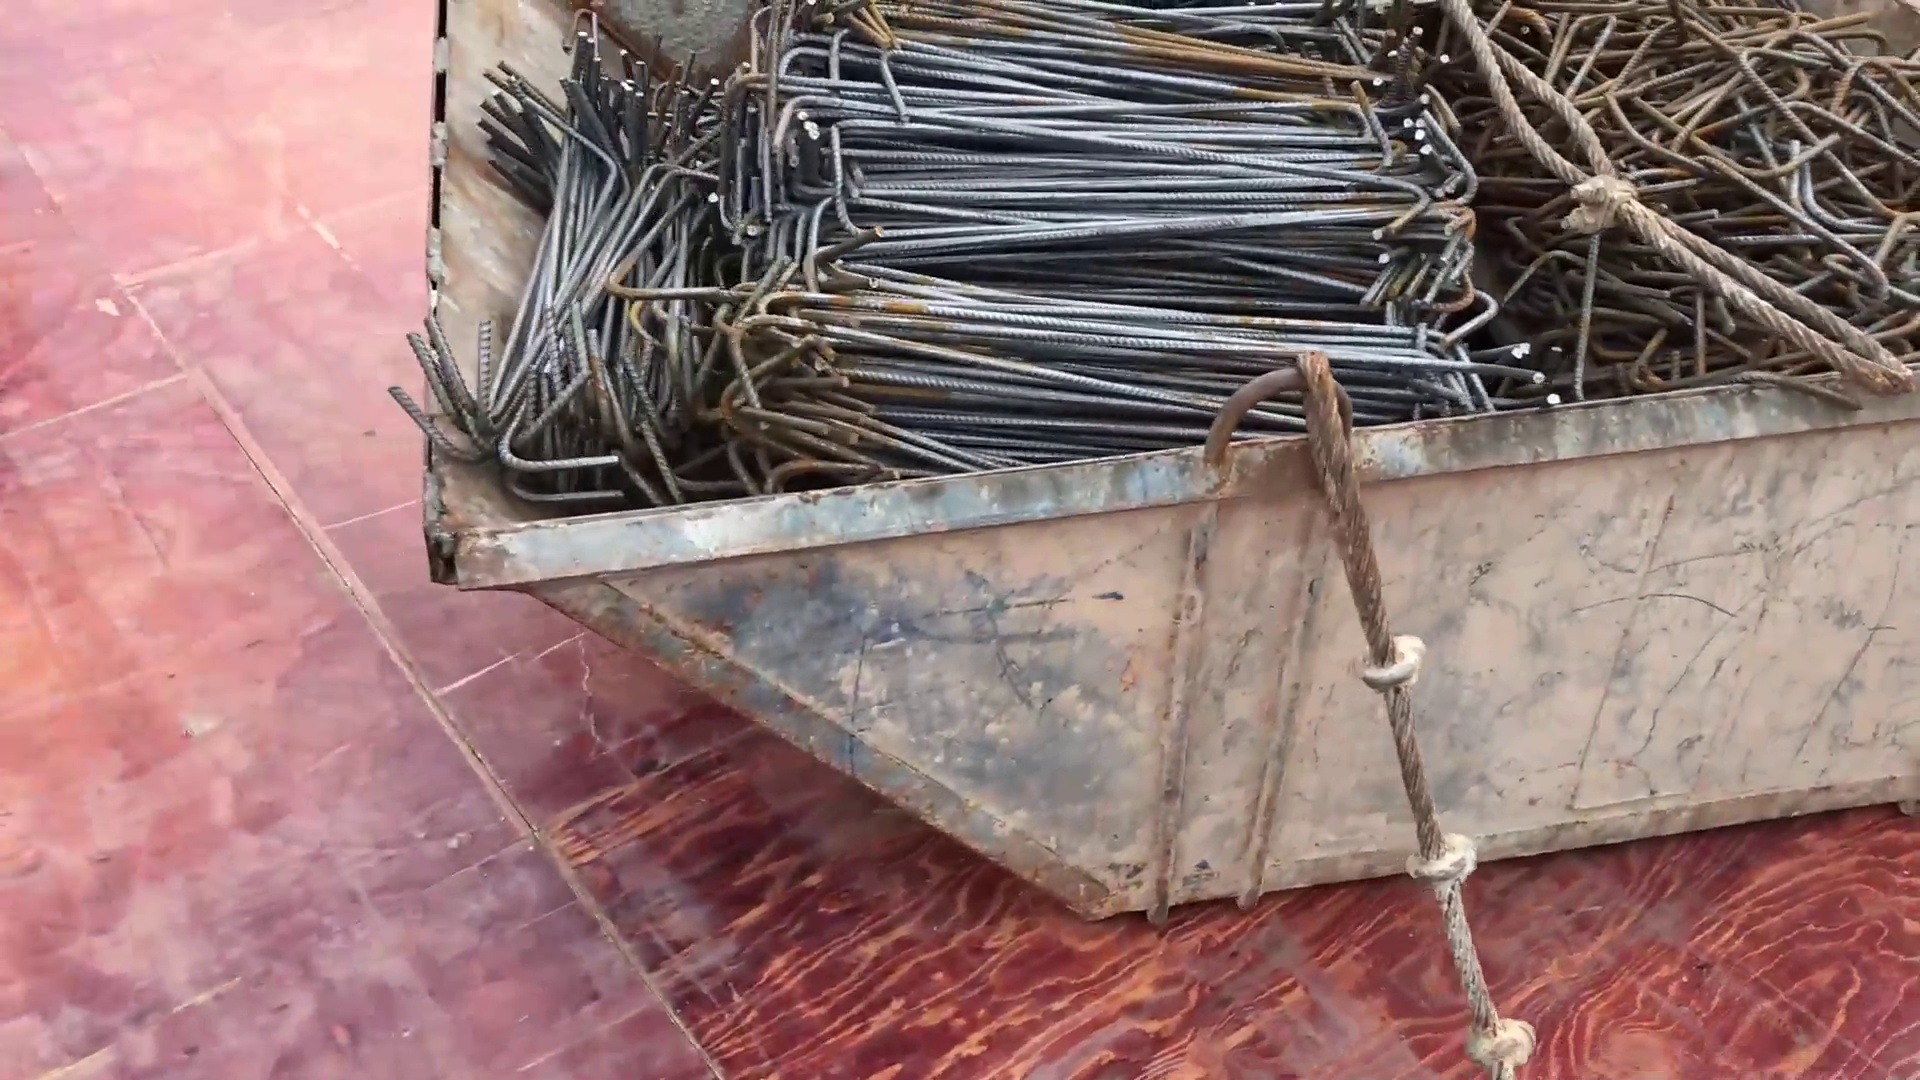hopper: (375, 13, 1920, 924)
